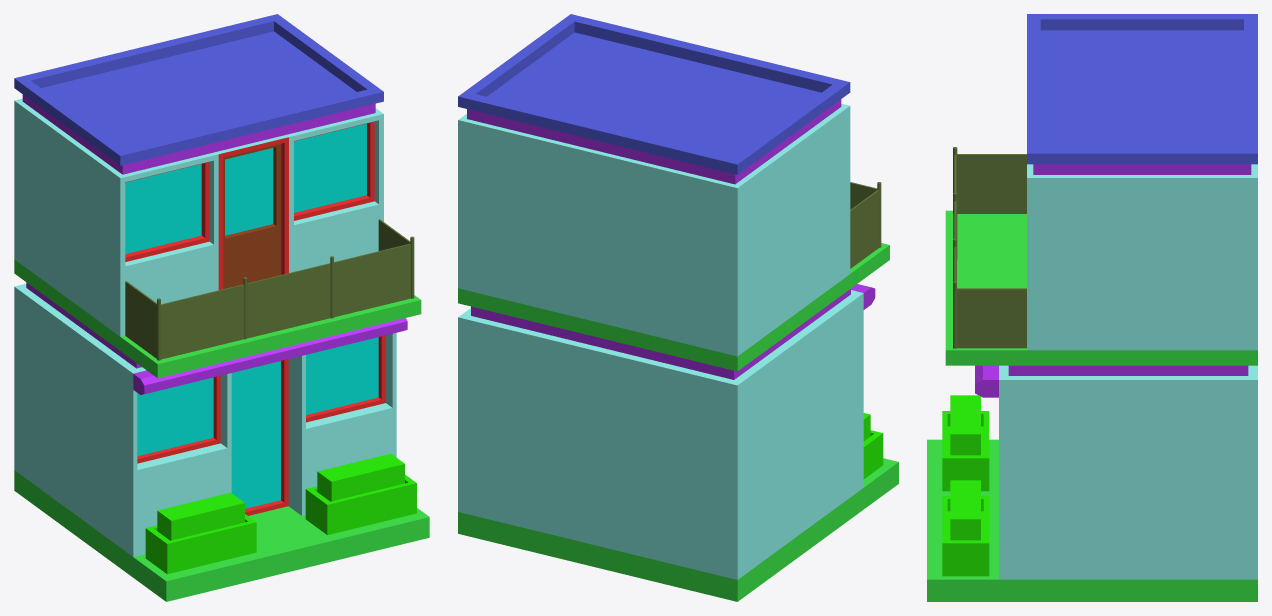
File: Building_2.fbx
The picture shows the model from 3 angles, left to right: view 1: azimuth 30°, elevation 25°; view 2: azimuth 150°, elevation 25°; view 3: azimuth 270°, elevation 25°; orthographic projection. The views are drawn at different scales.
Parts seen in each view (by area): view 1: pCube22; view 2: pCube22; view 3: pCube22.
Part boxes in pixels (box(x1,y1,x2,y2)): pCube22: box(14, 14, 429, 601); pCube22: box(458, 14, 898, 601); pCube22: box(927, 14, 1257, 601).
Bounding box in the file's own units: 400 × 400 × 598.
